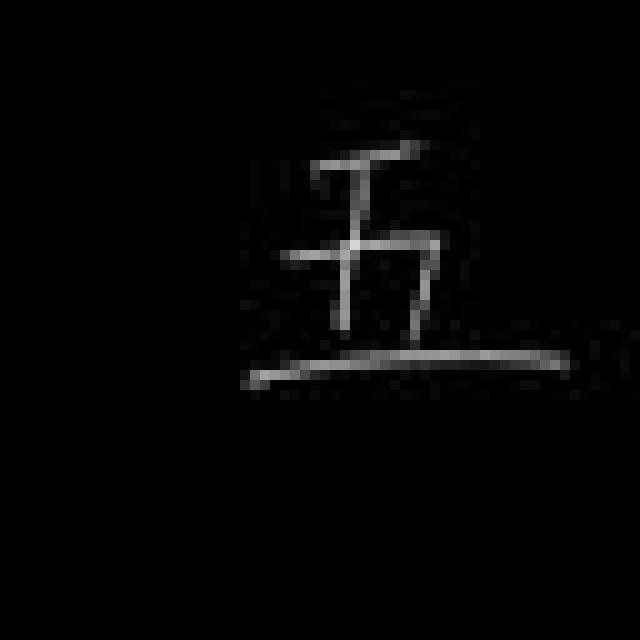5 -five-: (237, 128, 568, 394)
